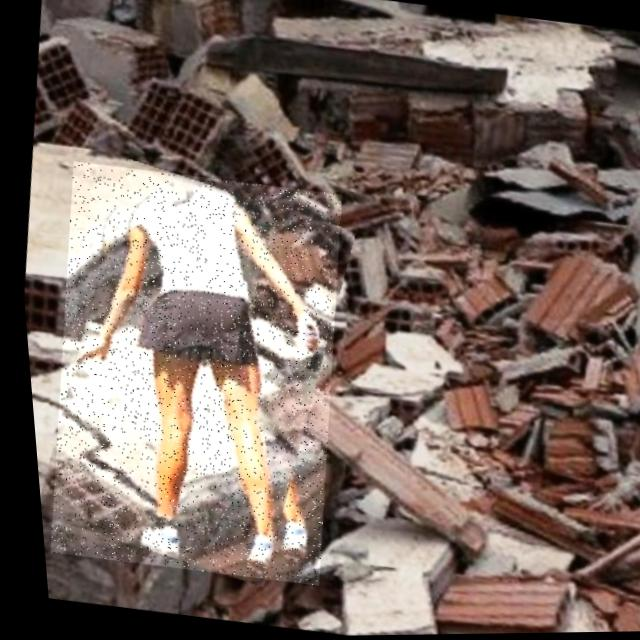Person in Rubble: (16, 159, 363, 589)
